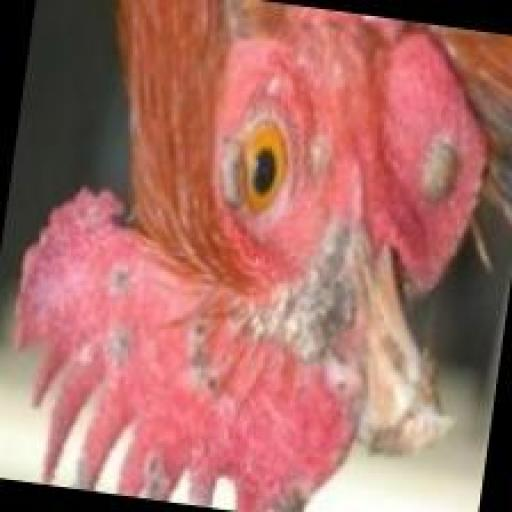disease: (124, 436, 318, 512), (392, 83, 490, 219), (174, 307, 246, 419), (67, 302, 140, 389), (301, 332, 369, 406), (91, 248, 162, 294)
